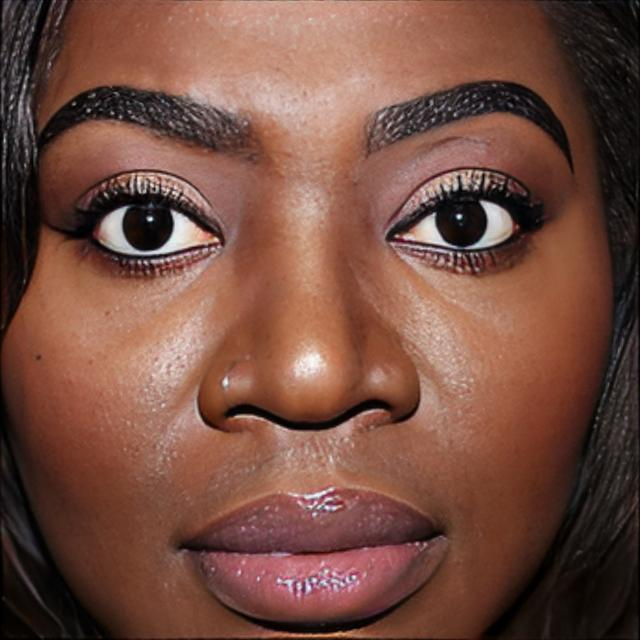surprise: (2, 2, 616, 640)
